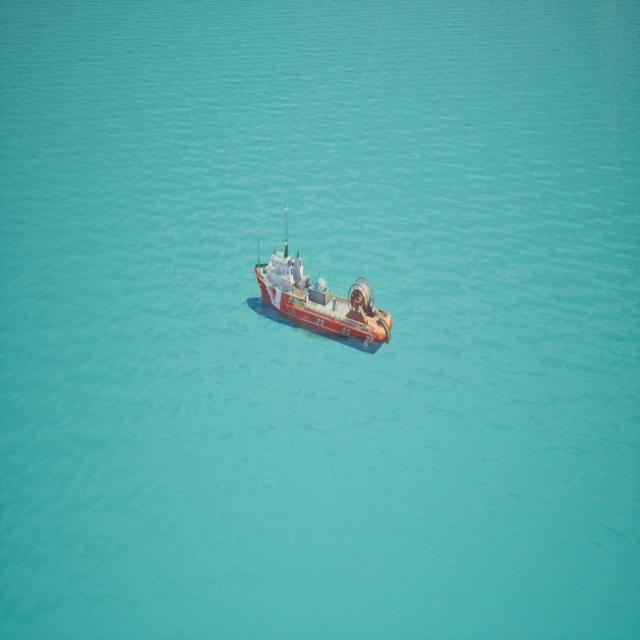tug boat: (247, 202, 394, 357)
